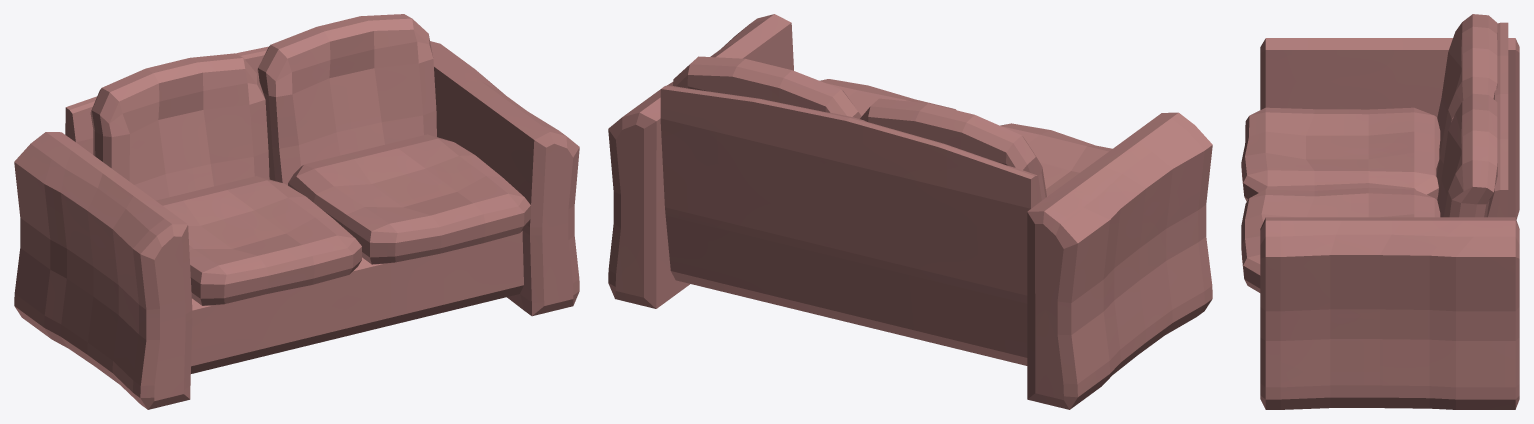
Rendered from sofa_1.glb.
The picture shows the model from 3 angles, left to right: view 1: azimuth 30°, elevation 25°; view 2: azimuth 150°, elevation 25°; view 3: azimuth 270°, elevation 25°; orthographic projection. The views are drawn at different scales.
Visible parts, largest first — view 1: body, pillow_vert_2, pillow_vert_1, pillow_hor_2, pillow_hor_1; view 2: body, pillow_vert_1, pillow_vert_2, pillow_hor_1, pillow_hor_2; view 3: body, pillow_hor_1, pillow_hor_2, pillow_vert_2, pillow_vert_1.
Boxes of the visible parts, <box> form: body: <box>14,41,579,409</box>; pillow_vert_2: <box>257,14,436,185</box>; pillow_vert_1: <box>90,53,269,200</box>; pillow_hor_2: <box>288,134,530,264</box>; pillow_hor_1: <box>156,176,361,305</box>; body: <box>608,14,1212,409</box>; pillow_vert_1: <box>860,98,1046,200</box>; pillow_vert_2: <box>673,56,861,118</box>; pillow_hor_1: <box>1000,123,1112,196</box>; pillow_hor_2: <box>820,79,956,115</box>; body: <box>1260,22,1519,409</box>; pillow_hor_1: <box>1241,107,1440,201</box>; pillow_hor_2: <box>1241,187,1440,292</box>; pillow_vert_2: <box>1437,93,1497,217</box>; pillow_vert_1: <box>1436,14,1497,193</box>.
Size of the model in its own units: 1.67 by 0.8481 by 0.9271.
Materials: 1 (1 with a texture image).
